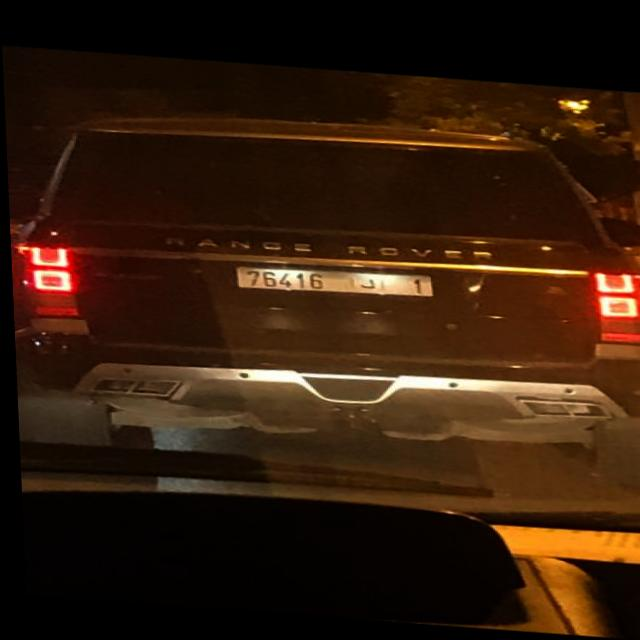License-Plate: (236, 263, 429, 291)
